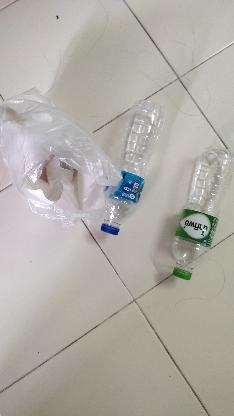Plastic Bag: (2, 86, 94, 226)
Plastic Bottle: (102, 95, 172, 239), (172, 146, 234, 282)
